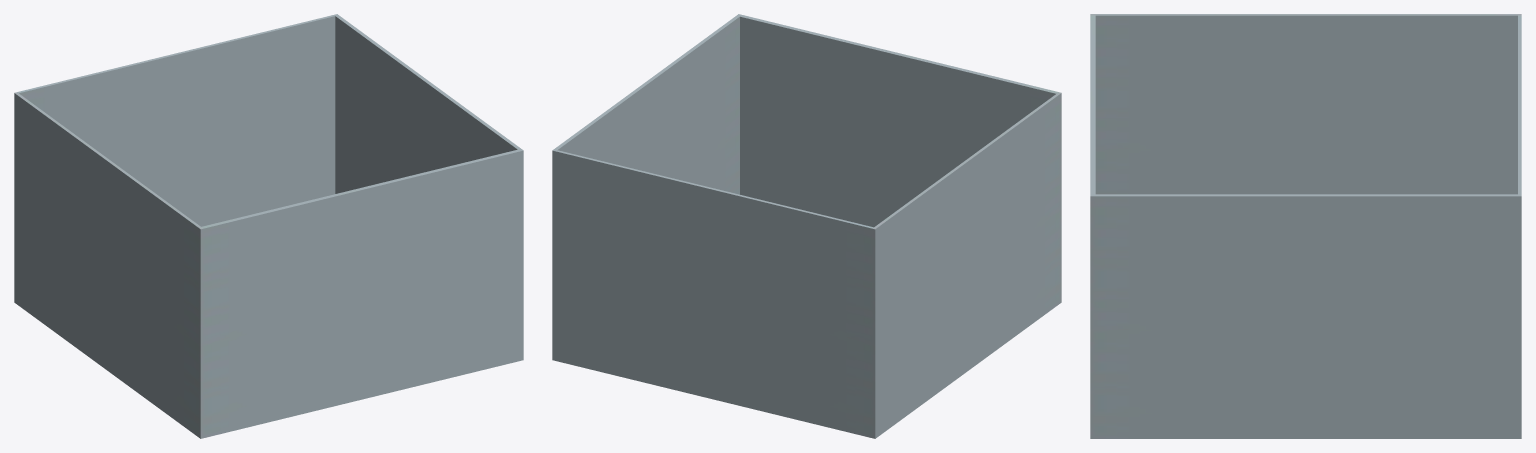
Rendered from battel_arena_colored.glb.
3 views of the same model, side by side, from view 1: azimuth 30°, elevation 25°; view 2: azimuth 150°, elevation 25°; view 3: azimuth 270°, elevation 25° (orthographic). The views are drawn at different scales.
Parts seen in each view (by area): view 1: Circle; view 2: Circle; view 3: Circle.
Part boxes in pixels (box(x1,y1,x2,y2)): Circle: box(14, 14, 523, 438); Circle: box(552, 14, 1061, 438); Circle: box(1090, 14, 1521, 438).
Bounding box in the file's own units: 3.34 × 2.07 × 3.34.
Materials: 1 (1 with a texture image).
